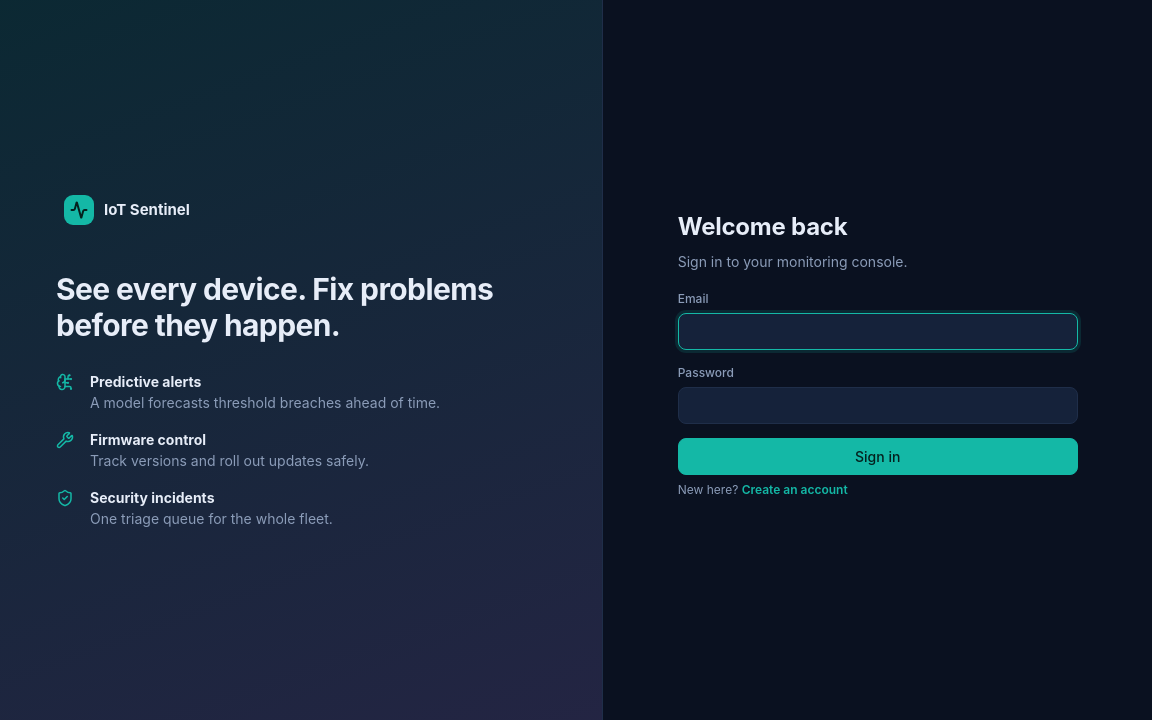
Scenario: sign-in screen › shows the server’s message for wrong credentials and does not sign in
Type "ada@example.com" into the field labelled "Email".
click(878, 332); type("ada@example.com")  # box [678,313,1078,350]
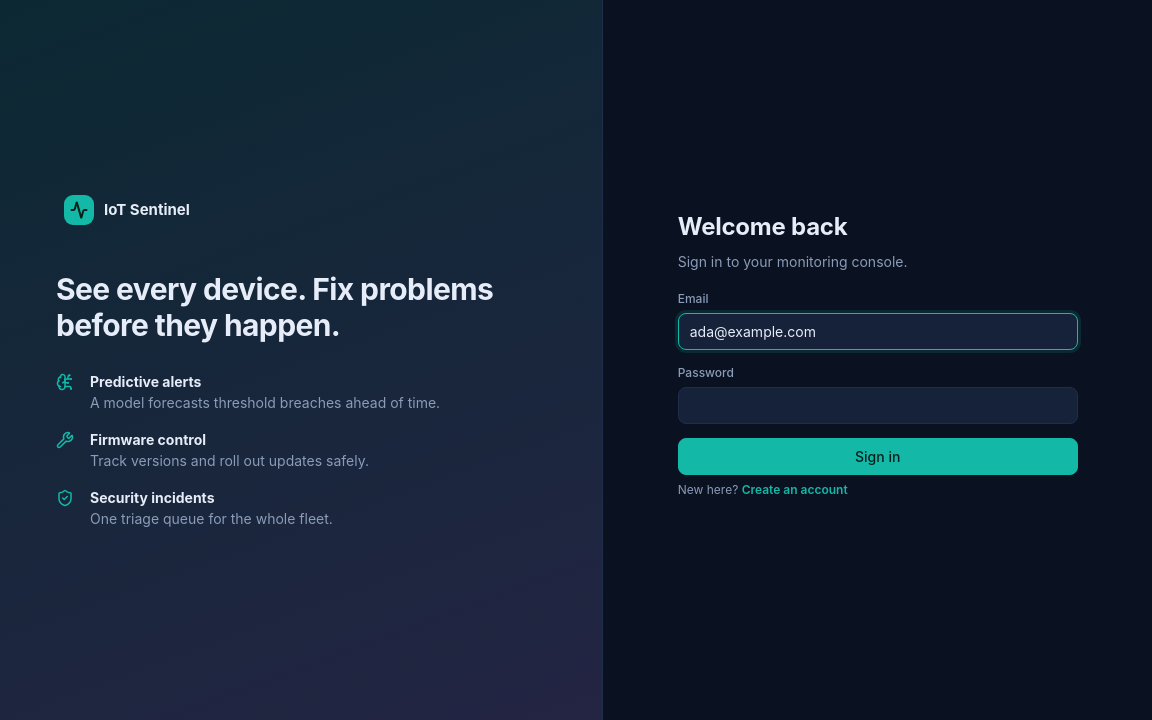
Type "wrong" into the password field labelled "Password".
click(878, 406); type("wrong")  # box [678,387,1078,424]
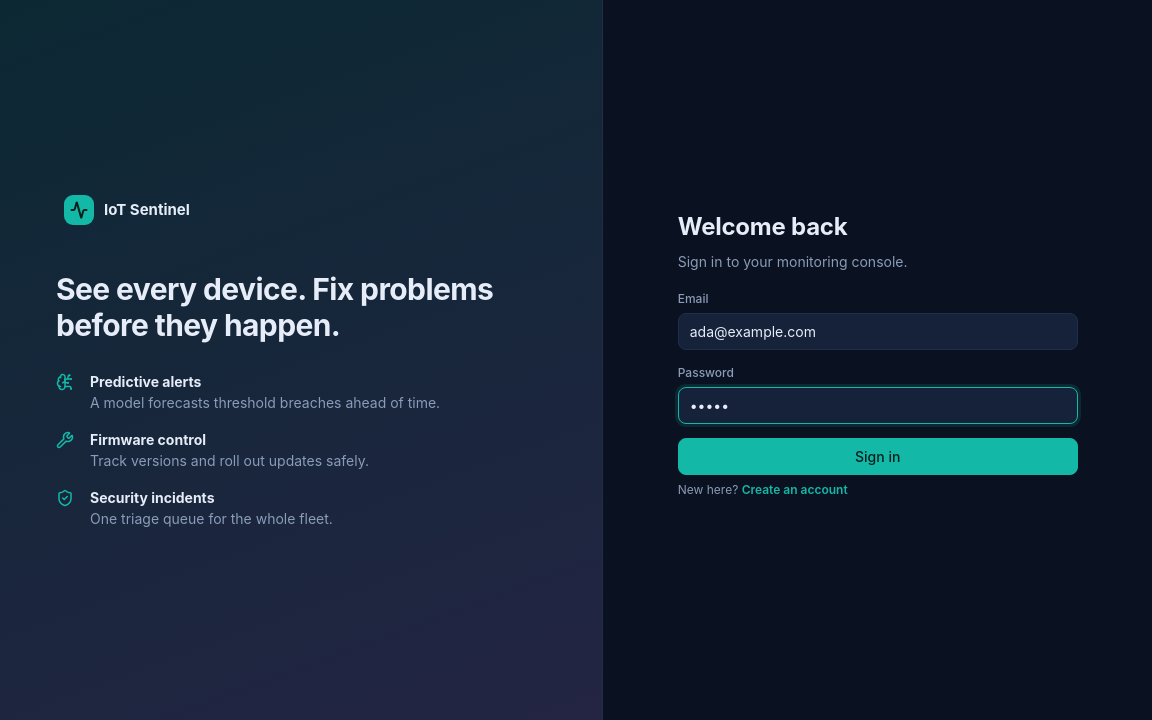
Click the button "Sign in".
click(878, 456)  # box [678,438,1078,475]
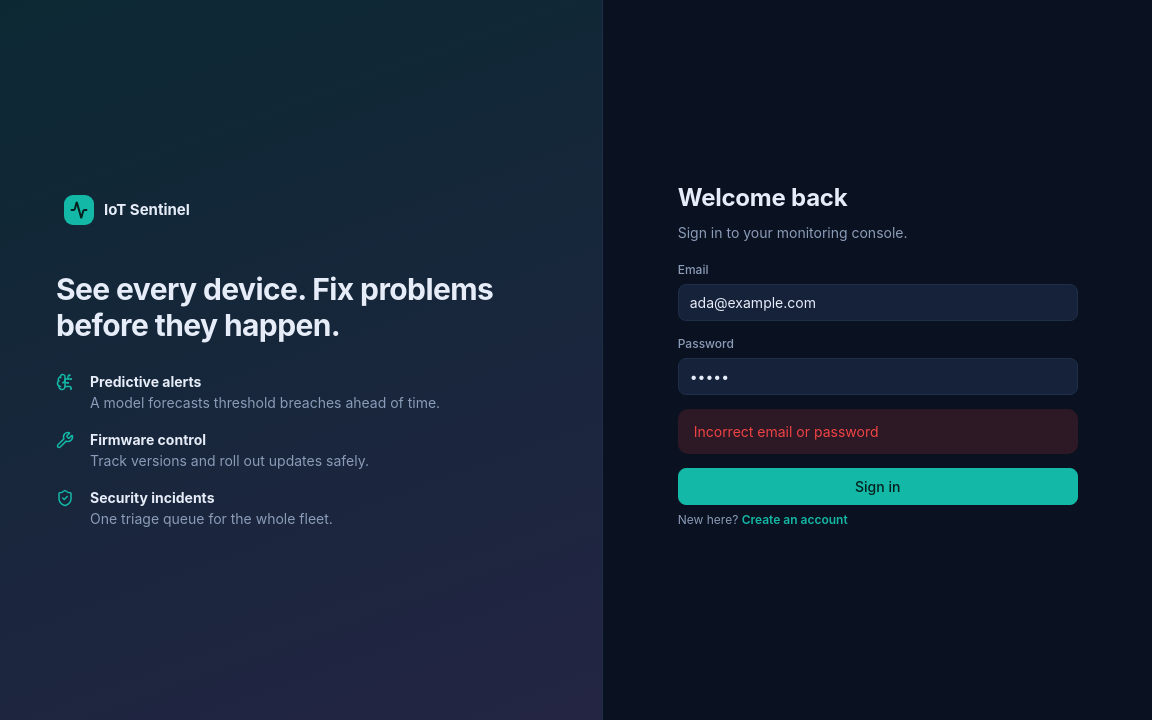
Expected: the message reads "Incorrect email or password", [694,422,878,440]
